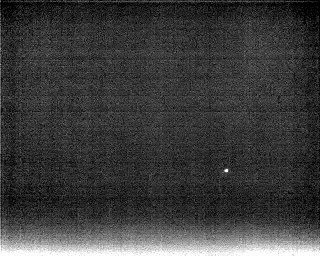BIRD: (221, 166, 231, 177)
